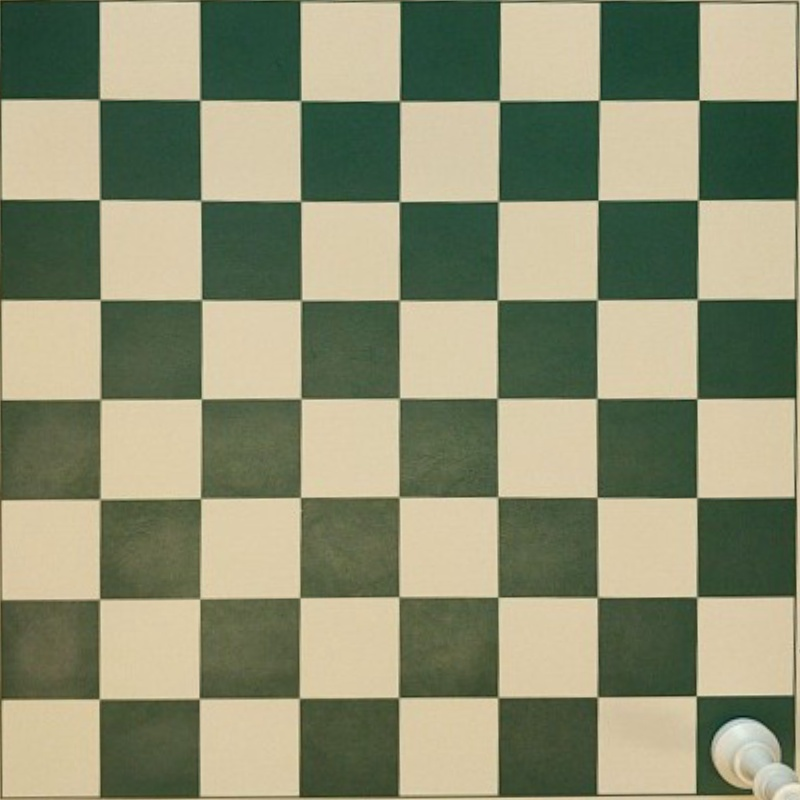white-king: (709, 716, 797, 798)
